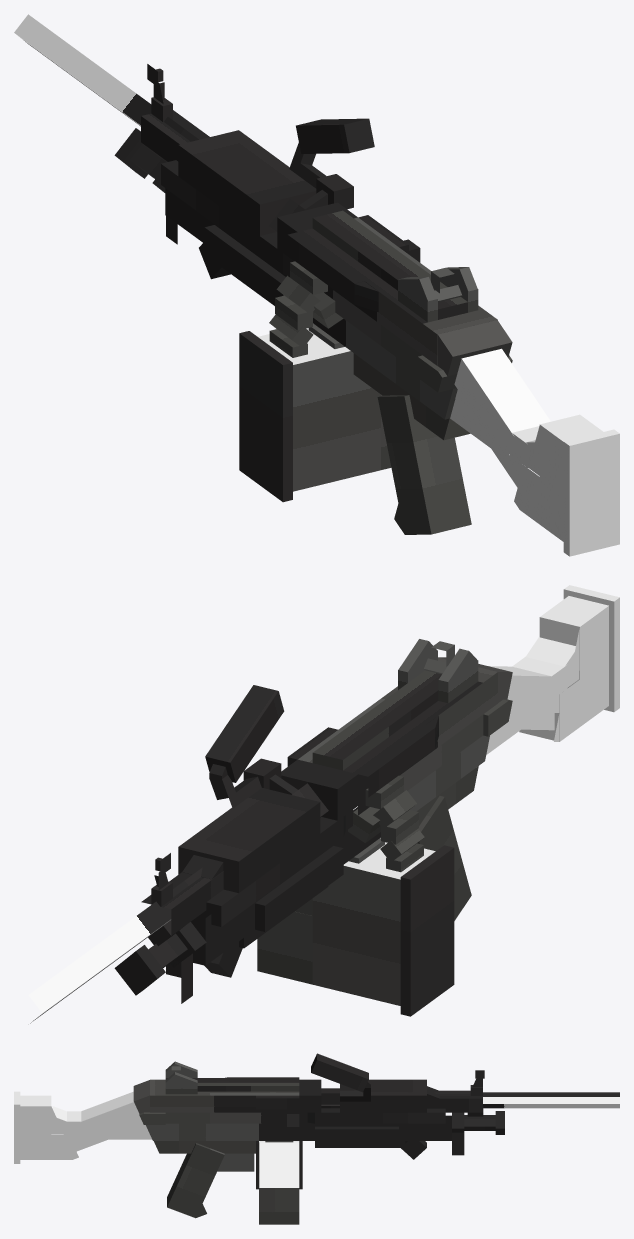
Rendered from aurorasarsenal_m249.glb.
3 renders of one model, top to bottom at view 1: azimuth 30°, elevation 25°; view 2: azimuth 150°, elevation 25°; view 3: azimuth 270°, elevation 25°, orthographic. The views are drawn at different scales.
Visible parts, largest first — view 1: Gun; view 2: Gun; view 3: Gun.
Boxes of the visible parts, bbox=[...] form: Gun: bbox=[14, 14, 619, 556]; Gun: bbox=[28, 585, 619, 1023]; Gun: bbox=[14, 1053, 619, 1224].
Bounding box in the file's own units: 0.2063 × 0.3727 × 1.22.
Materials: 1 (1 with a texture image).
